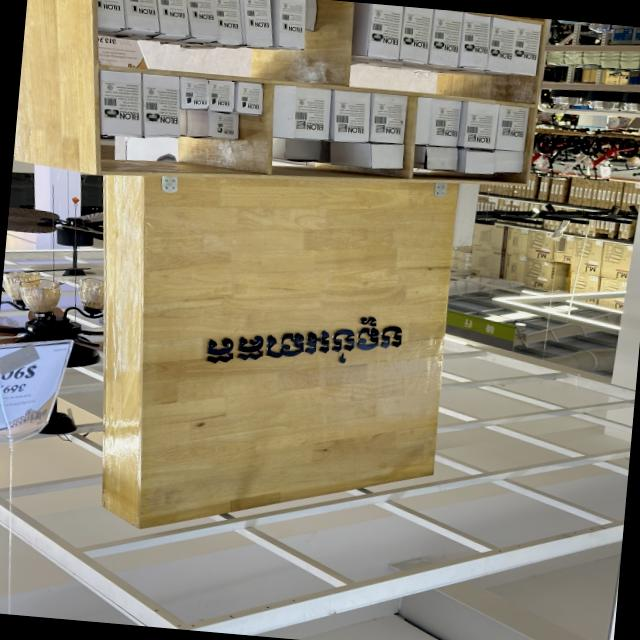Yolov11_80vkh: (201, 312, 414, 376)
